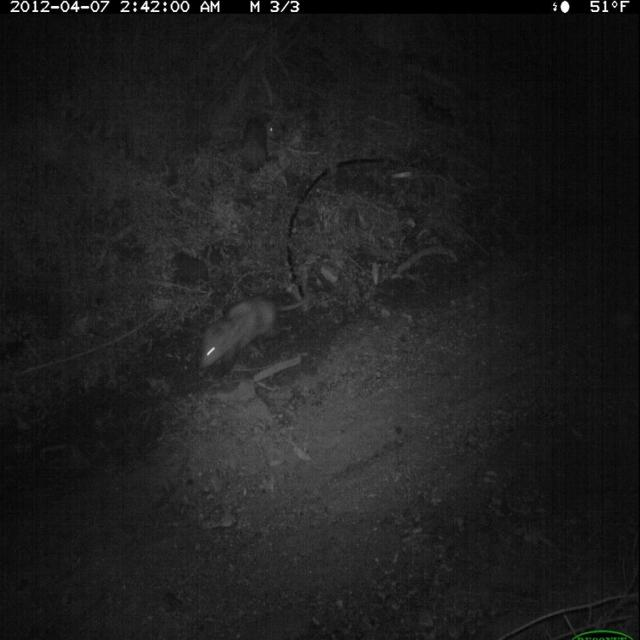opossum: (195, 290, 313, 382), (238, 111, 279, 176)
